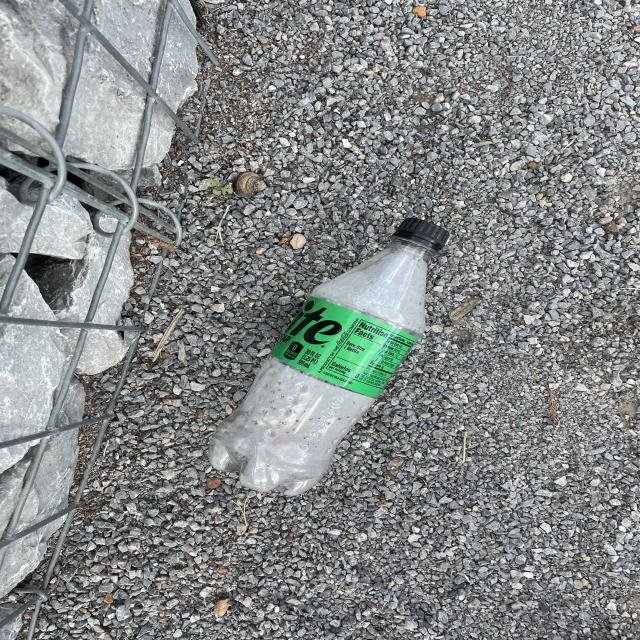plastic: (190, 187, 452, 511)
trash-zQNu: (184, 184, 452, 510)
